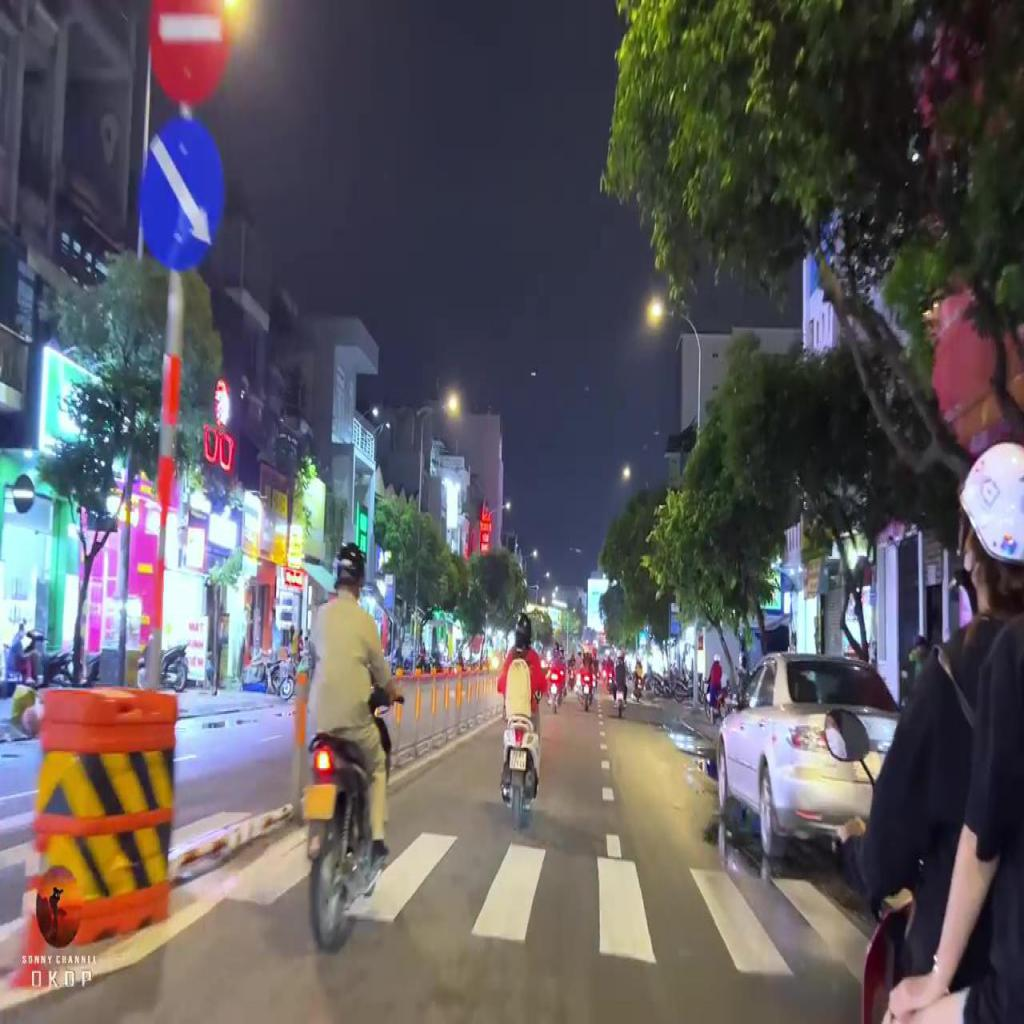cam_xe_di_nguoc_chieu: (148, 1, 234, 104)
huong_phai_di_vuot_chuong_ngai_vat_phai: (138, 117, 225, 270)
